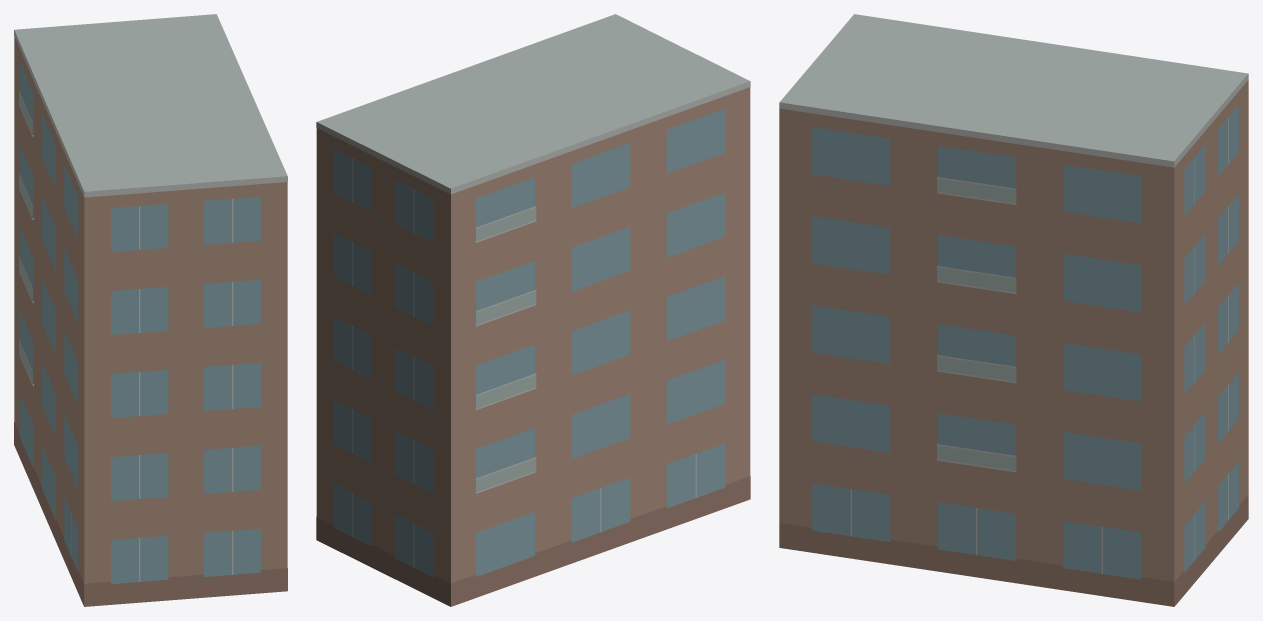
Rendered from survey-upis-32890936.glb.
3 views of the same model, side by side, from view 1: azimuth 30°, elevation 25°; view 2: azimuth 150°, elevation 25°; view 3: azimuth 270°, elevation 25° (orthographic). The views are drawn at different scales.
Parts seen in each view (by area): view 1: survey-upis-32890936.tmp; view 2: survey-upis-32890936.tmp; view 3: survey-upis-32890936.tmp.
Boxes of the visible parts, <box> form: survey-upis-32890936.tmp: <box>14,14,287,606</box>; survey-upis-32890936.tmp: <box>316,14,750,606</box>; survey-upis-32890936.tmp: <box>779,14,1248,606</box>.
Bounding box in the file's own units: 12.58 × 17.7 × 16.9.
